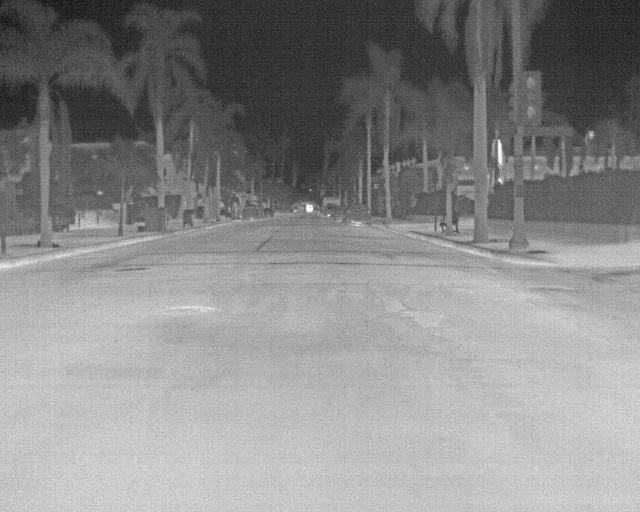car: (344, 201, 372, 228), (243, 202, 262, 220), (326, 204, 342, 221), (320, 196, 337, 212), (303, 204, 314, 213)
